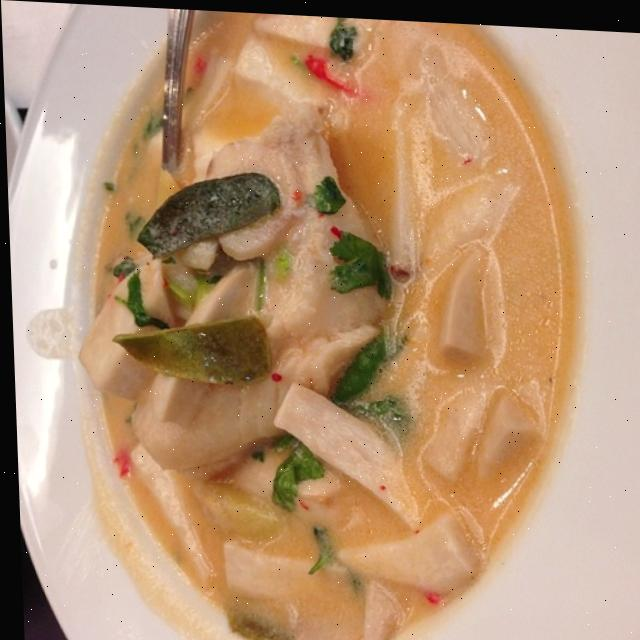汤锅炖物: (42, 16, 603, 640)
